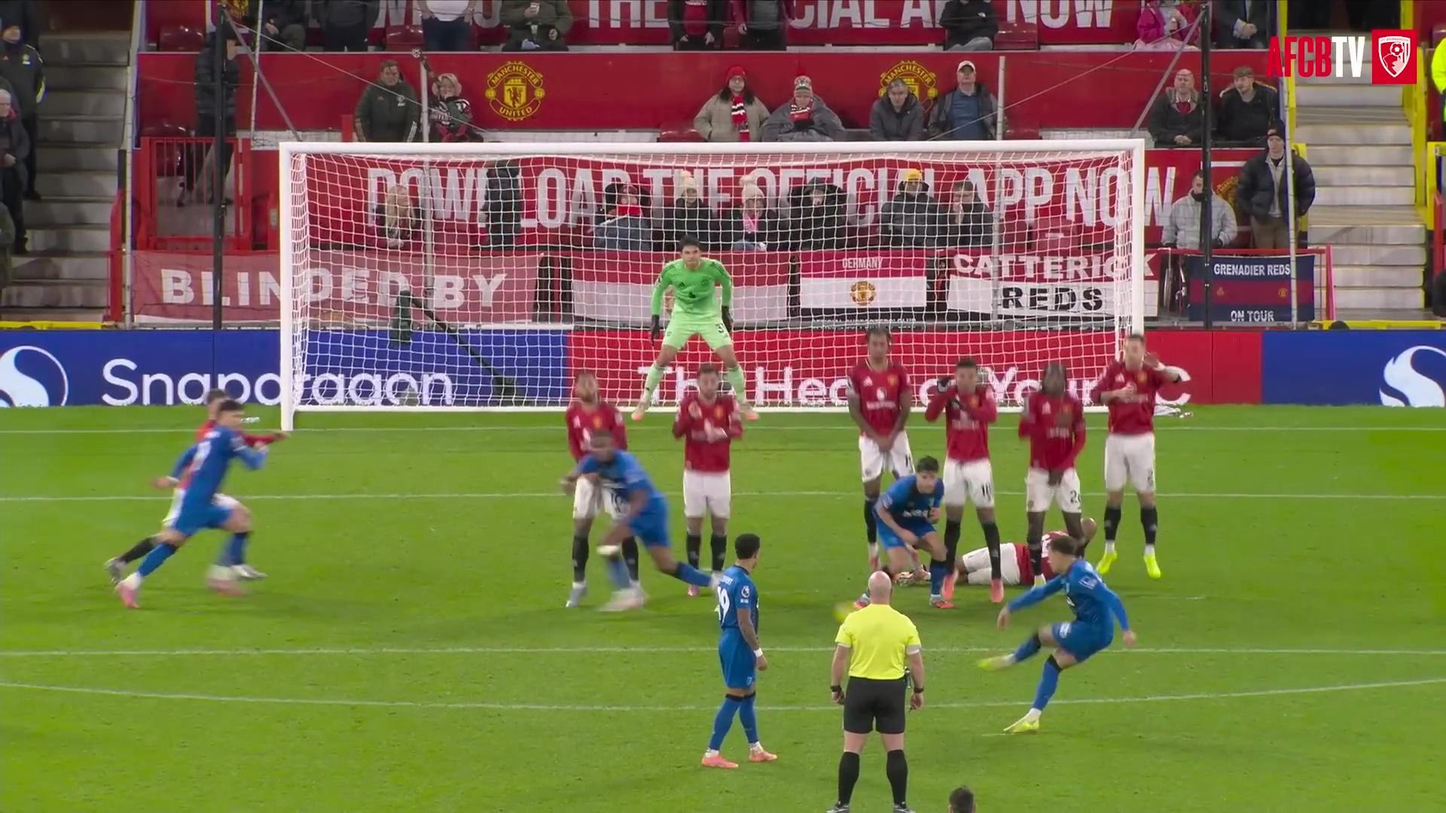player: (116, 399, 265, 607), (980, 539, 1135, 732), (562, 433, 712, 611), (632, 235, 756, 419), (1091, 334, 1181, 578), (925, 358, 1003, 602), (701, 534, 776, 768), (849, 327, 913, 571), (1018, 362, 1085, 583), (673, 364, 743, 573), (875, 457, 955, 608), (566, 478, 624, 607), (209, 533, 264, 580), (1000, 543, 1033, 586)
referee: (828, 571, 923, 812)
